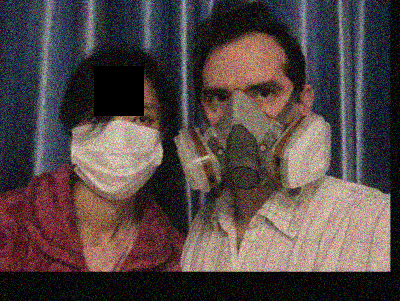with_mask: (199, 76, 298, 194), (69, 99, 163, 199)
